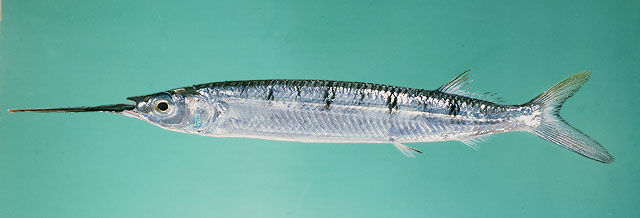fish: (8, 67, 616, 167)
